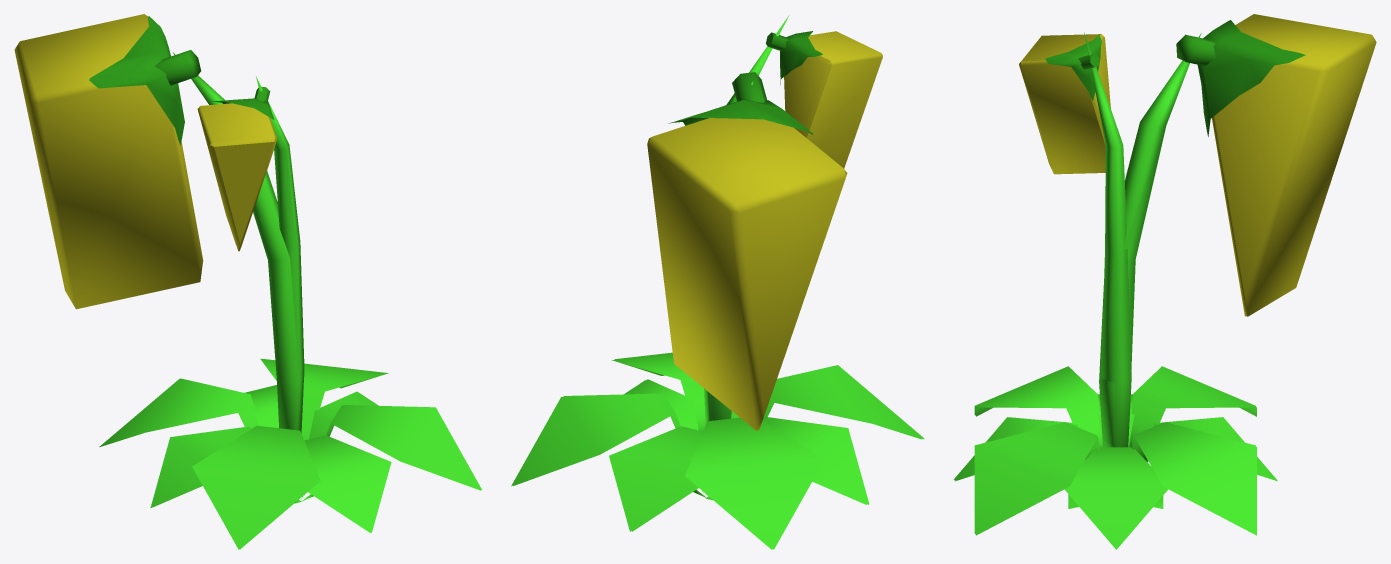
File: cheese_fruit_crop.glb
The picture shows the model from 3 angles, left to right: view 1: azimuth 30°, elevation 25°; view 2: azimuth 150°, elevation 25°; view 3: azimuth 270°, elevation 25°; orthographic projection. The views are drawn at different scales.
Parts seen in each view (by area): view 1: Stage4, Stage3; view 2: Stage4, Stage3, Stage1; view 3: Stage4, Stage3.
Boxes of the visible parts, left/top/right/bottom form: Stage4: left=14, top=14, right=480, bottom=549; Stage3: left=154, top=76, right=481, bottom=549; Stage4: left=563, top=72, right=924, bottom=548; Stage3: left=511, top=15, right=921, bottom=549; Stage1: left=513, top=359, right=923, bottom=549; Stage4: left=953, top=14, right=1376, bottom=533; Stage3: left=955, top=32, right=1277, bottom=549.
Size of the model in its own units: 0.4034 by 0.5259 by 0.4465.
